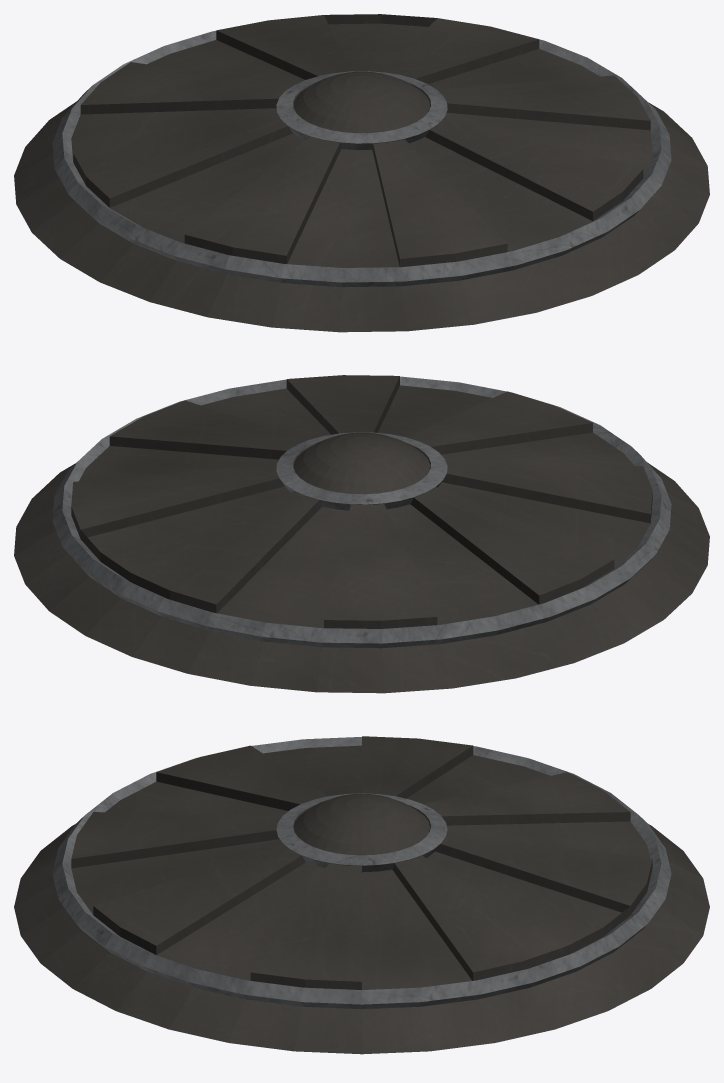
Rendered from Shield.fbx.
3 views of the same model, one above another, from view 1: azimuth 30°, elevation 25°; view 2: azimuth 150°, elevation 25°; view 3: azimuth 270°, elevation 25° (orthographic).
Parts seen in each view (by area): view 1: MainBAse, BAseLower, OuterRing, Circle.002, InnerRing; view 2: MainBAse, BAseLower, OuterRing, Circle.002, InnerRing; view 3: MainBAse, BAseLower, OuterRing, Circle.002, InnerRing.
Part boxes in pixels (box(x1,y1,x2,y2)): MainBAse: box(71, 14, 652, 267); BAseLower: box(14, 101, 709, 332); OuterRing: box(52, 30, 671, 287); Circle.002: box(294, 71, 429, 133); InnerRing: box(276, 71, 447, 149); MainBAse: box(71, 375, 652, 628); BAseLower: box(14, 462, 709, 693); OuterRing: box(52, 376, 671, 648); Circle.002: box(294, 432, 429, 494); InnerRing: box(276, 432, 447, 510); MainBAse: box(71, 736, 652, 989); BAseLower: box(14, 824, 709, 1054); OuterRing: box(52, 737, 671, 1009); Circle.002: box(294, 793, 429, 855); InnerRing: box(276, 793, 447, 872).
Size of the model in its own units: 1146 by 215 by 1146.
